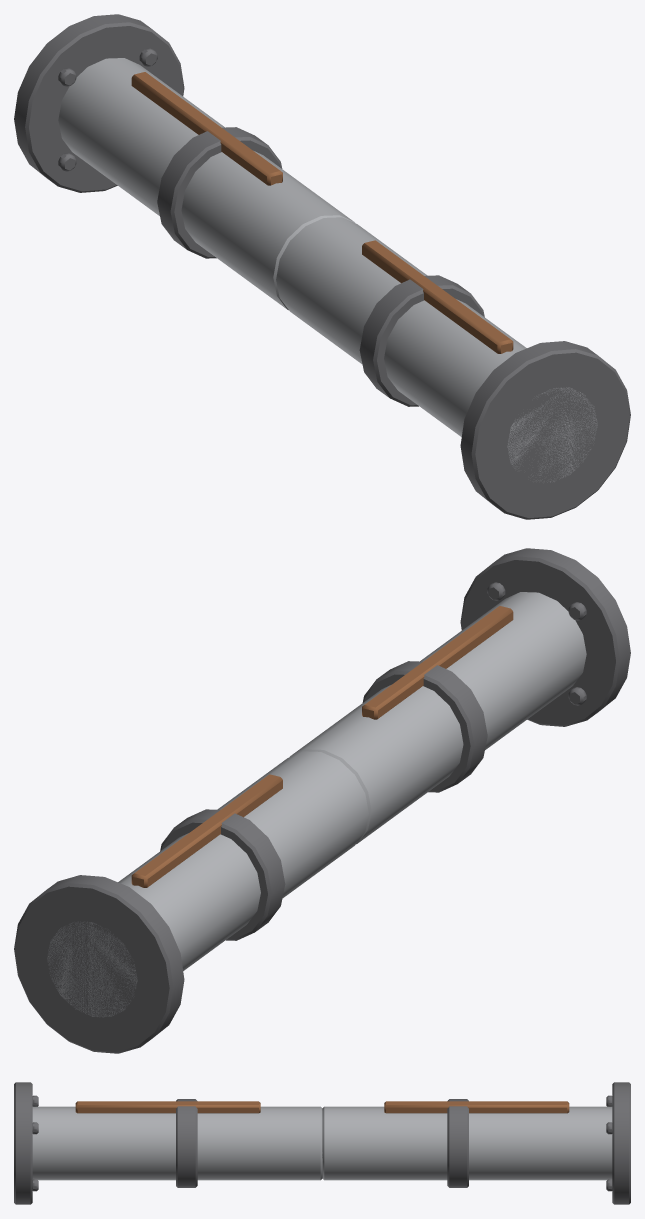
The model's file is feShaft.fbx.
3 views of the same model, one above another, from view 1: azimuth 30°, elevation 25°; view 2: azimuth 150°, elevation 25°; view 3: azimuth 270°, elevation 25° (orthographic). The views are drawn at different scales.
Parts seen in each view (by area): view 1: FeSpin_Shaft; view 2: FeSpin_Shaft; view 3: FeSpin_Shaft.
Part boxes in pixels (x1=…): FeSpin_Shaft: x1=14, y1=14, x2=630, y2=519; FeSpin_Shaft: x1=14, y1=548, x2=630, y2=1053; FeSpin_Shaft: x1=14, y1=1082, x2=630, y2=1204.
Size of the model in its own units: 0.2 by 0.2 by 1.
